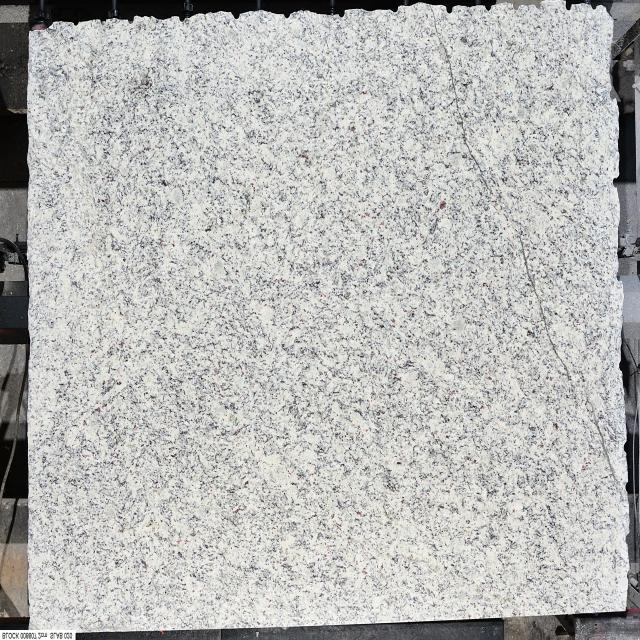chapa: (28, 2, 628, 630)
veio: (443, 1, 458, 15), (610, 174, 621, 190), (608, 87, 618, 103), (564, 0, 574, 14)
